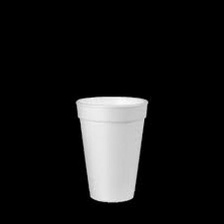paper_cup: (67, 91, 154, 205)
